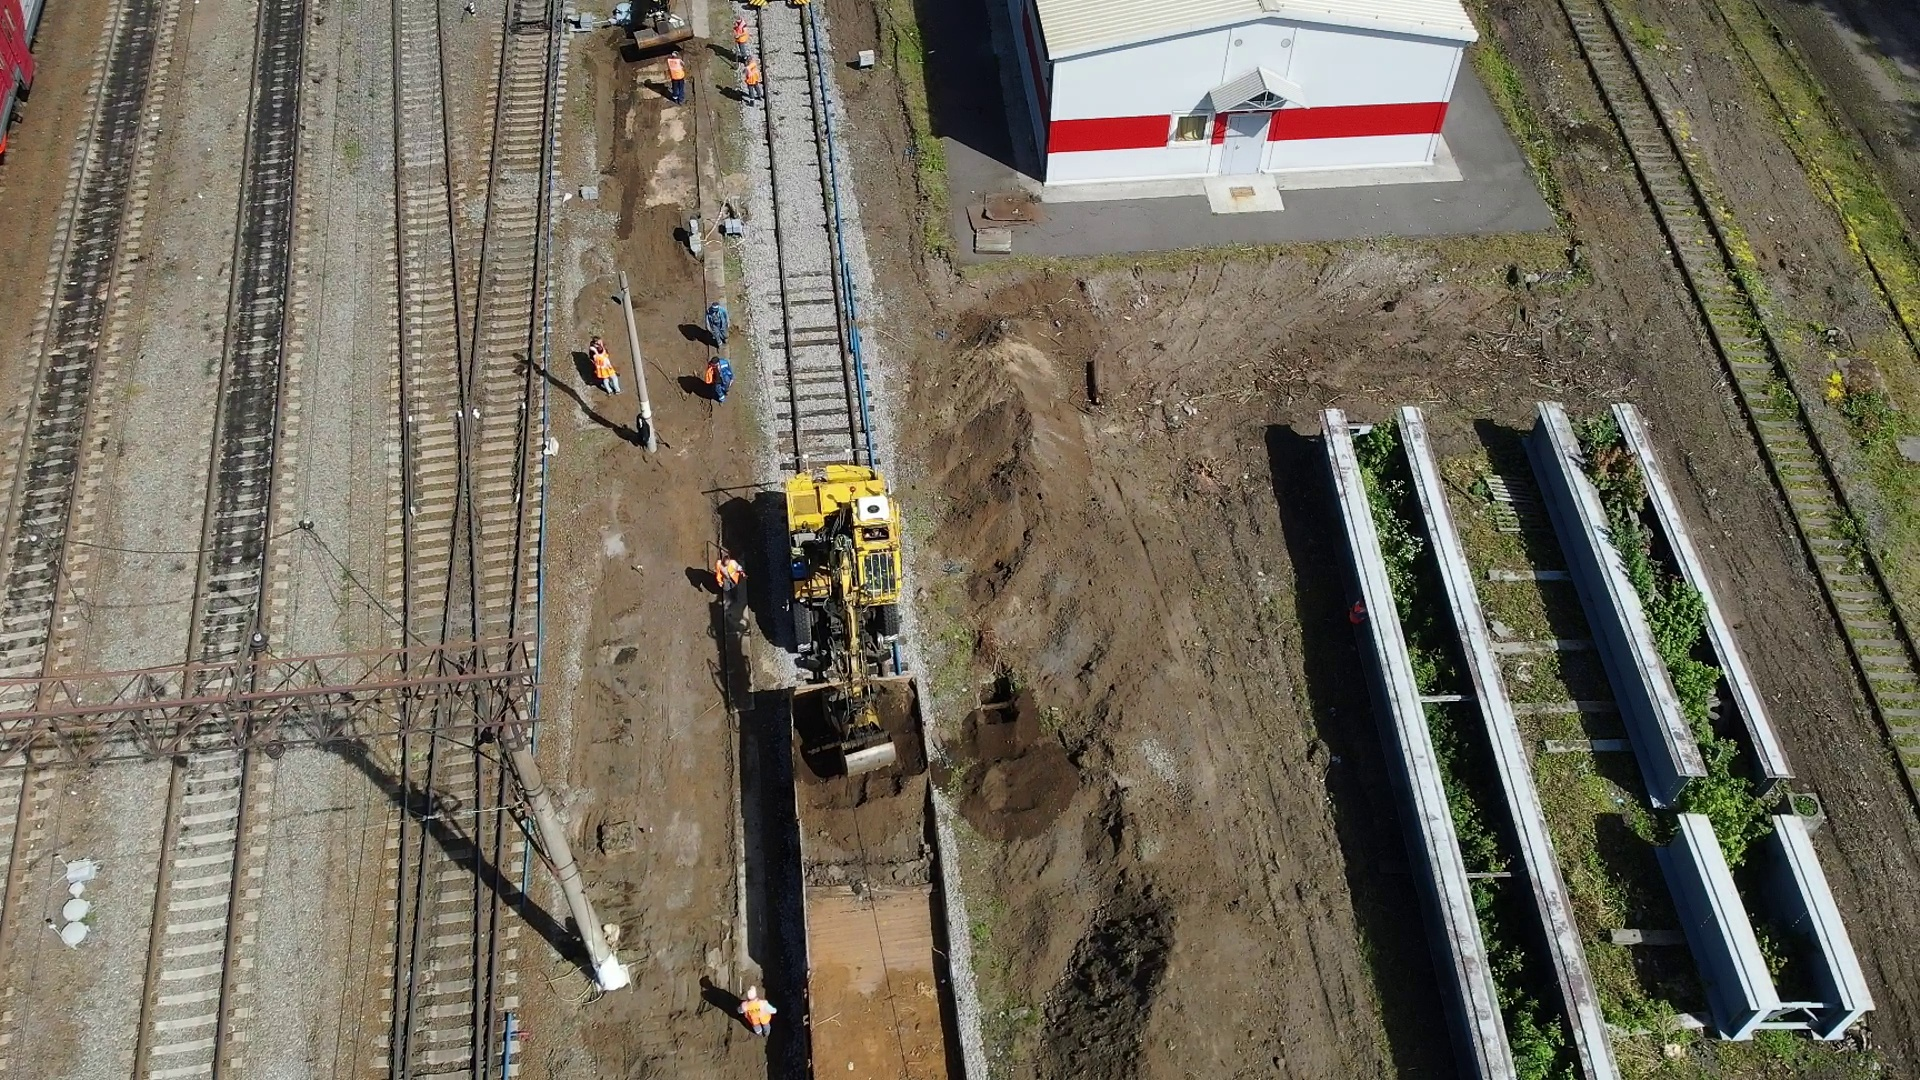kjtv: (772, 474, 914, 644)
